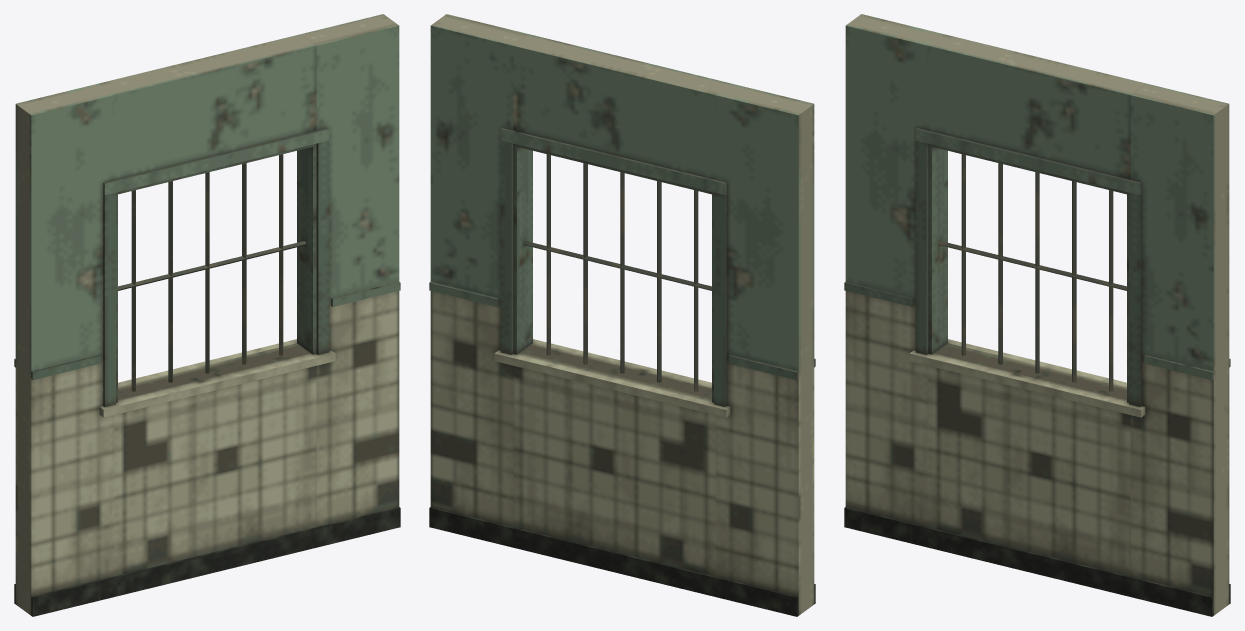
File: Wall_Window_Barred_2m_01.obj
The picture shows the model from 3 angles, left to right: view 1: azimuth 30°, elevation 25°; view 2: azimuth 150°, elevation 25°; view 3: azimuth 330°, elevation 25°; orthographic projection.
Parts seen in each view (by area): view 1: Wall_Window_Barred_2m_01; view 2: Wall_Window_Barred_2m_01; view 3: Wall_Window_Barred_2m_01.
Boxes of the visible parts, x1,y1,x2,y2 form: Wall_Window_Barred_2m_01: [14, 14, 400, 616]; Wall_Window_Barred_2m_01: [429, 14, 815, 616]; Wall_Window_Barred_2m_01: [844, 14, 1230, 616].
Size of the model in its own units: 2 by 2.6 by 0.23.
1 material, 1 textured.
